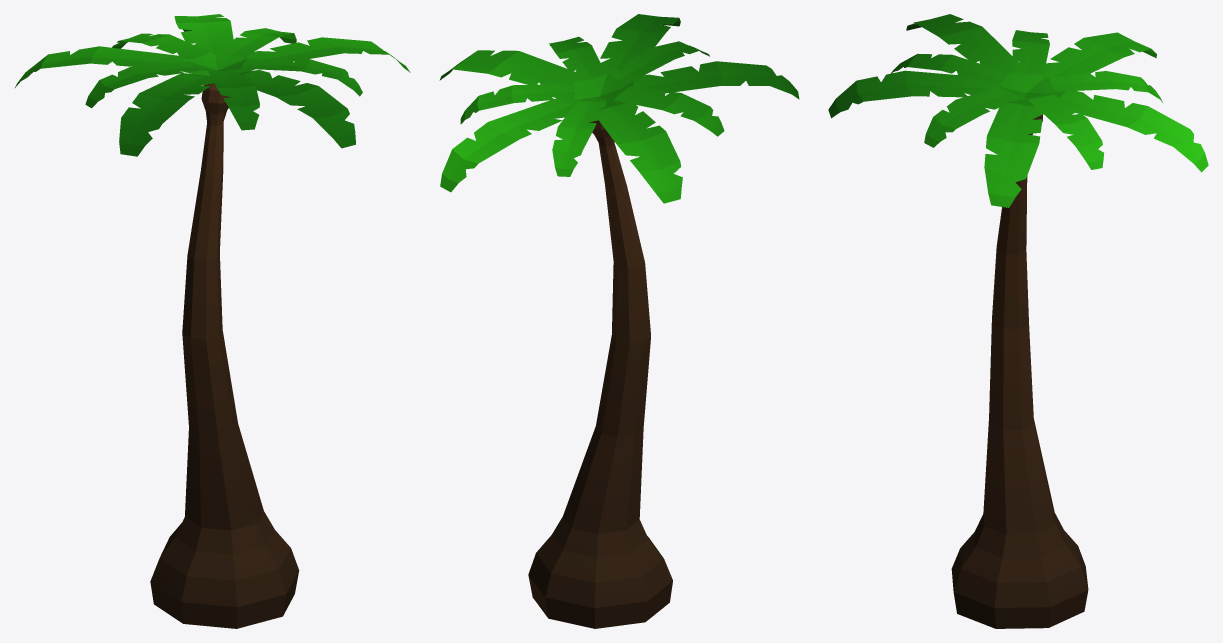
The model's file is palmtree01.fbx.
3 views of the same model, side by side, from view 1: azimuth 30°, elevation 25°; view 2: azimuth 150°, elevation 25°; view 3: azimuth 270°, elevation 25° (orthographic). The views are drawn at different scales.
Visible parts, largest first — view 1: PalmTree02; view 2: PalmTree02; view 3: PalmTree02.
Boxes of the visible parts, box(x1,y1,x2,y2) form: PalmTree02: box(14, 14, 410, 628); PalmTree02: box(439, 14, 799, 628); PalmTree02: box(828, 14, 1208, 628).
Size of the model in its own units: 399 by 636 by 415.
